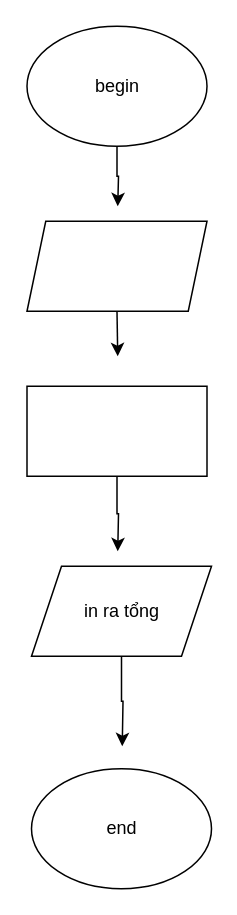
This 237x915 diagram has some shape labels left out. Each missing label, with the centre of its shape:
nhập a và b: the point at 116,265
tinh tổng a và b: the point at 116,430
